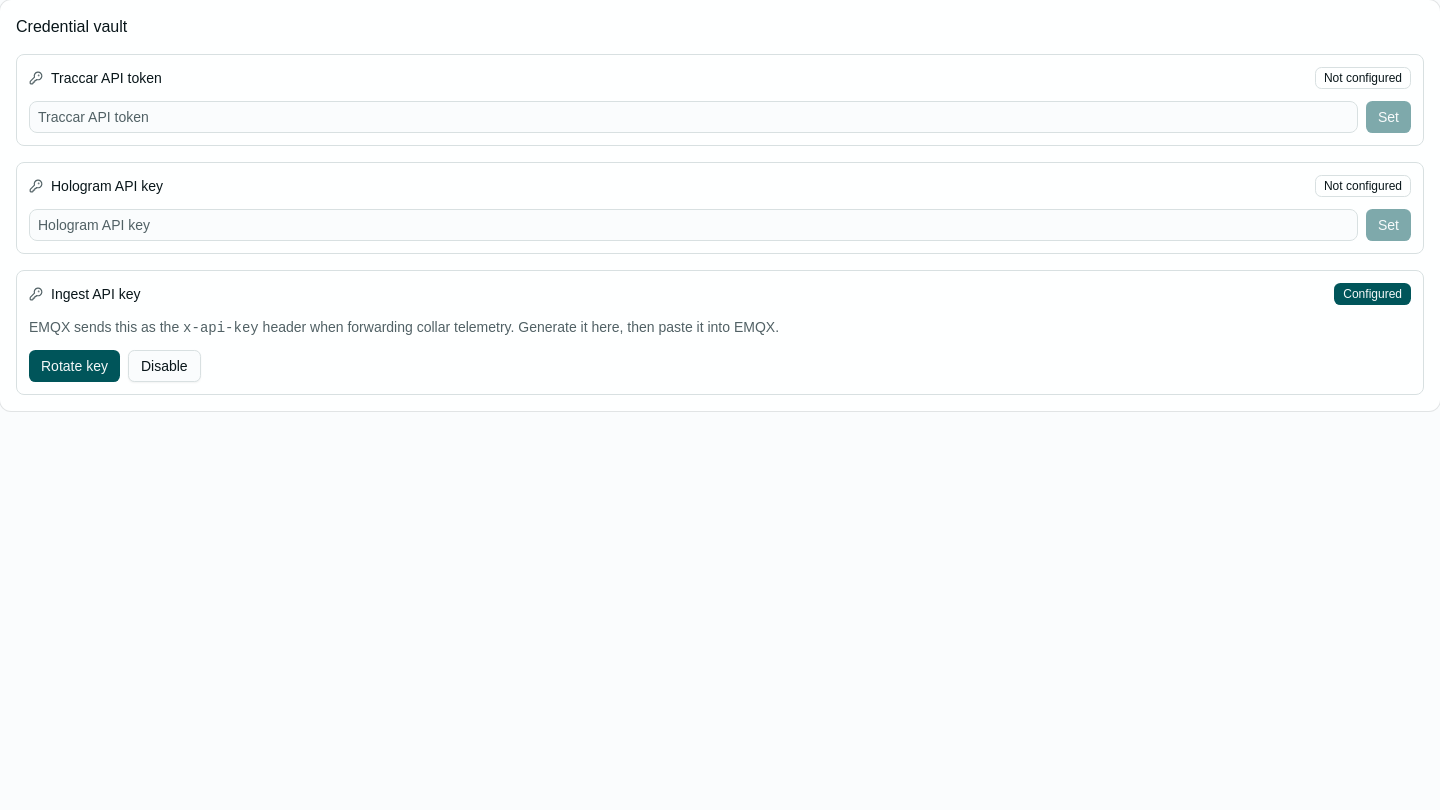
Test: CredentialVaultPanel › rotates an existing ingest key only after confirming
Click the button "Rotate key" at point(74, 366), box [29, 350, 120, 382]
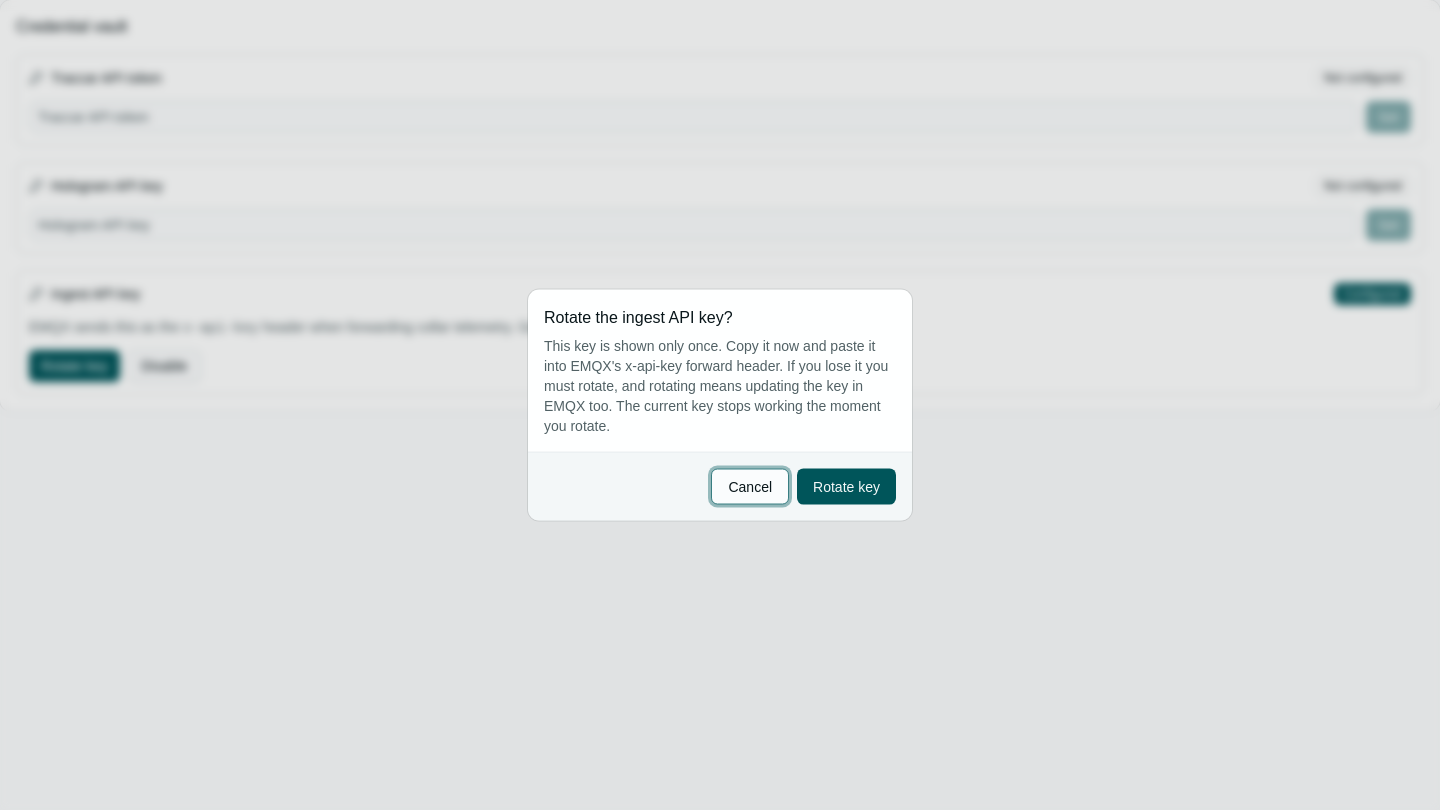
Click the button "Rotate key" at point(847, 486), box [797, 468, 896, 504]
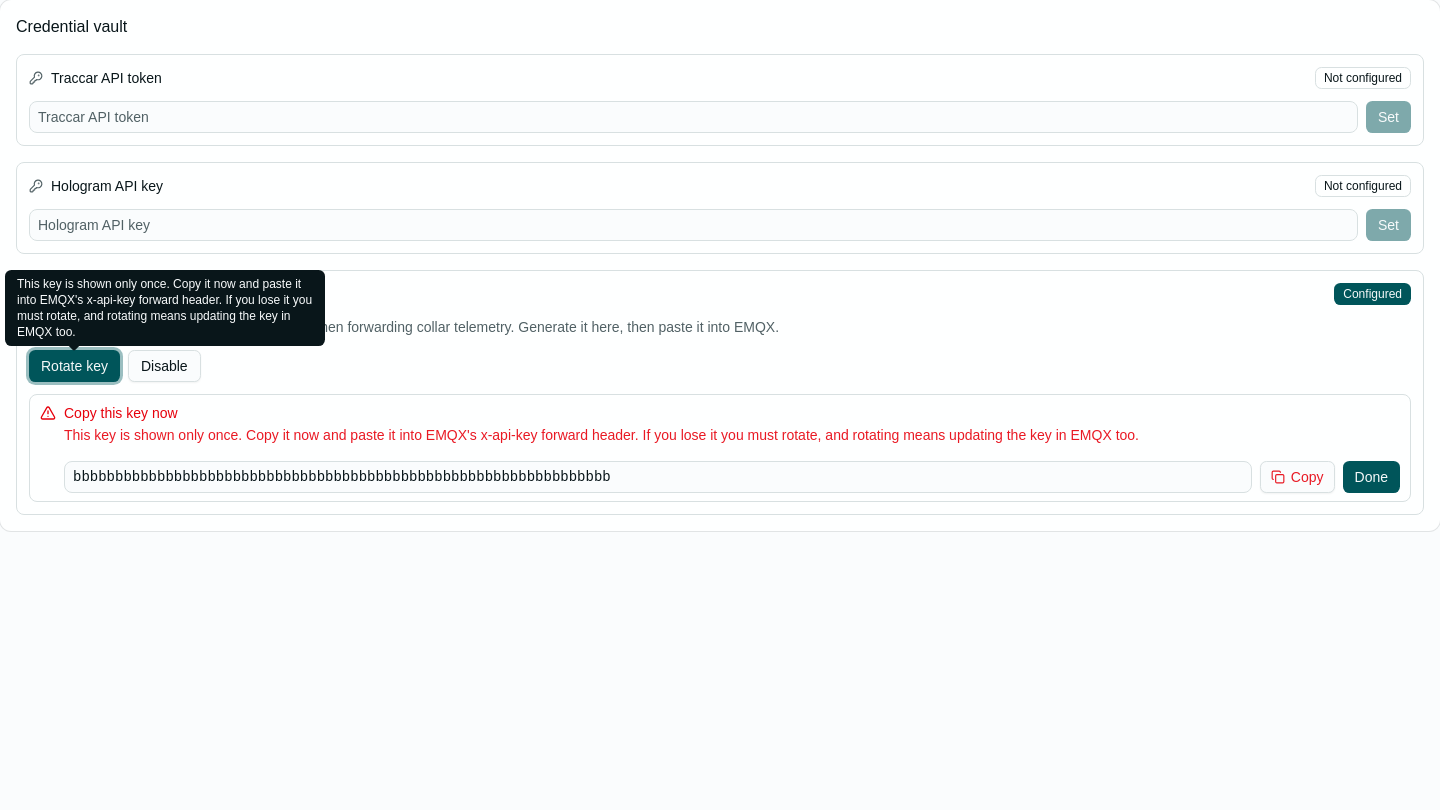
Now the dialog is gone
